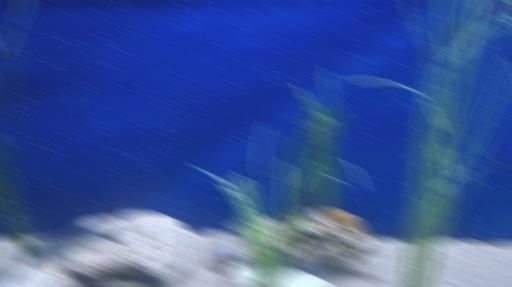Fish: (18, 222, 123, 265)
